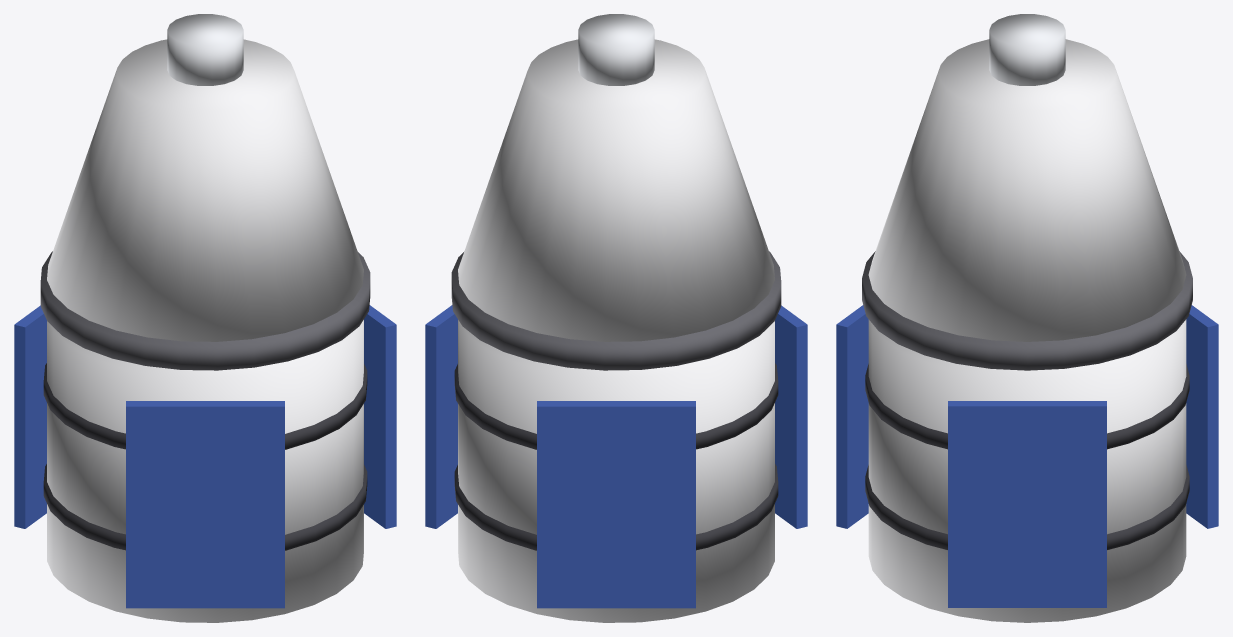
The picture shows the model from 3 angles, left to right: view 1: azimuth 30°, elevation 25°; view 2: azimuth 150°, elevation 25°; view 3: azimuth 270°, elevation 25°; orthographic projection.
Parts seen in each view (by area): view 1: capsule_cap, capsule_trunk, capsule_sp2, capsule_shield, capsule_sp1, capsule_sp0, capsule_dock, capsule_r1, capsule_r0; view 2: capsule_cap, capsule_trunk, capsule_sp1, capsule_shield, capsule_sp2, capsule_sp0, capsule_dock, capsule_r1, capsule_r0; view 3: capsule_cap, capsule_trunk, capsule_sp0, capsule_shield, capsule_sp1, capsule_sp2, capsule_dock, capsule_r1, capsule_r0.
Boxes of the visible parts, left/top/right/bottom form: capsule_cap: left=47, top=39, right=363, bottom=341; capsule_trunk: left=47, top=320, right=363, bottom=622; capsule_sp2: left=126, top=401, right=284, bottom=608; capsule_shield: left=40, top=251, right=370, bottom=370; capsule_sp1: left=14, top=305, right=46, bottom=528; capsule_sp0: left=364, top=305, right=396, bottom=528; capsule_dock: left=167, top=14, right=243, bottom=85; capsule_r1: left=43, top=363, right=367, bottom=449; capsule_r0: left=43, top=464, right=367, bottom=550; capsule_cap: left=458, top=39, right=774, bottom=341; capsule_trunk: left=458, top=320, right=774, bottom=622; capsule_sp1: left=537, top=401, right=695, bottom=608; capsule_shield: left=451, top=251, right=781, bottom=370; capsule_sp2: left=775, top=305, right=807, bottom=528; capsule_sp0: left=425, top=305, right=457, bottom=528; capsule_dock: left=578, top=14, right=654, bottom=85; capsule_r1: left=454, top=363, right=778, bottom=449; capsule_r0: left=454, top=464, right=778, bottom=550; capsule_cap: left=868, top=39, right=1186, bottom=341; capsule_trunk: left=868, top=319, right=1186, bottom=622; capsule_sp0: left=948, top=401, right=1106, bottom=607; capsule_shield: left=862, top=251, right=1192, bottom=370; capsule_sp1: left=1186, top=305, right=1218, bottom=528; capsule_sp2: left=836, top=305, right=868, bottom=528; capsule_dock: left=989, top=14, right=1065, bottom=85; capsule_r1: left=865, top=364, right=1189, bottom=449; capsule_r0: left=865, top=465, right=1189, bottom=549.
Bounding box in the file's own units: 1.07 × 1.82 × 1.2.
